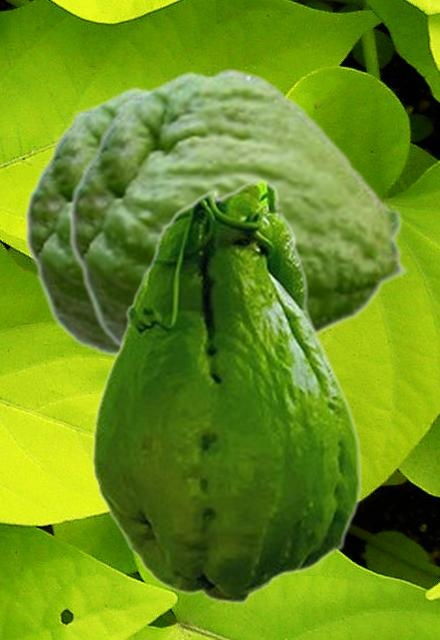sayote: (91, 178, 362, 604), (68, 67, 409, 350), (24, 83, 160, 357)
